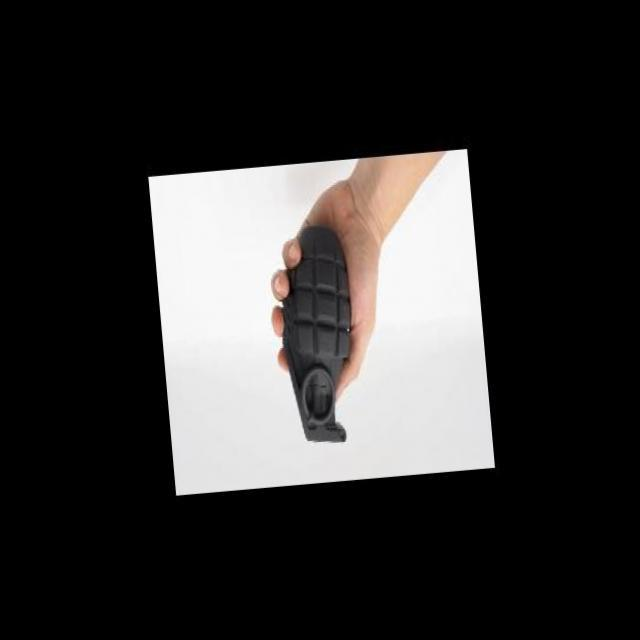grenade: (264, 198, 360, 454)
